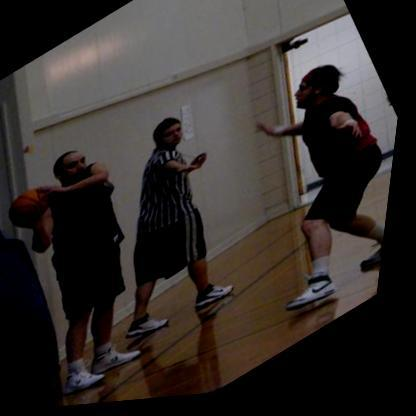basketball: (5, 180, 62, 234)
